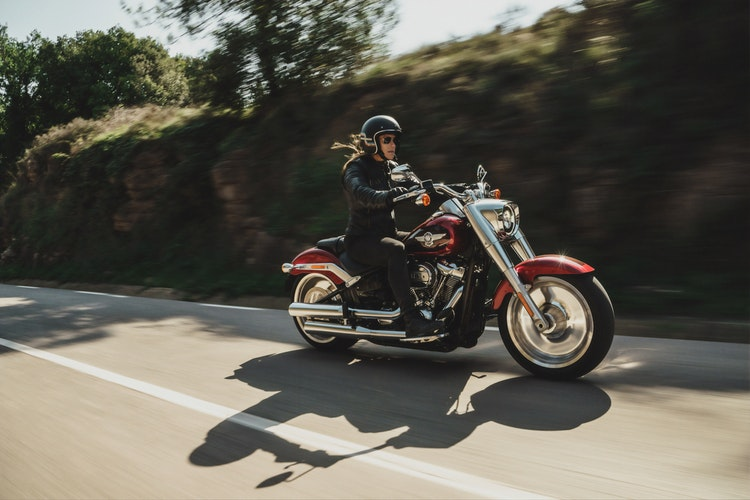helmet: (352, 114, 402, 156)
